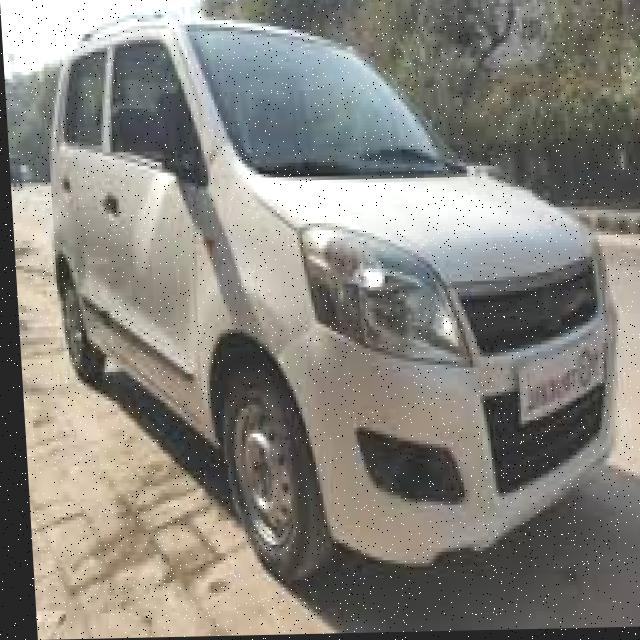car: (13, 0, 636, 597)
